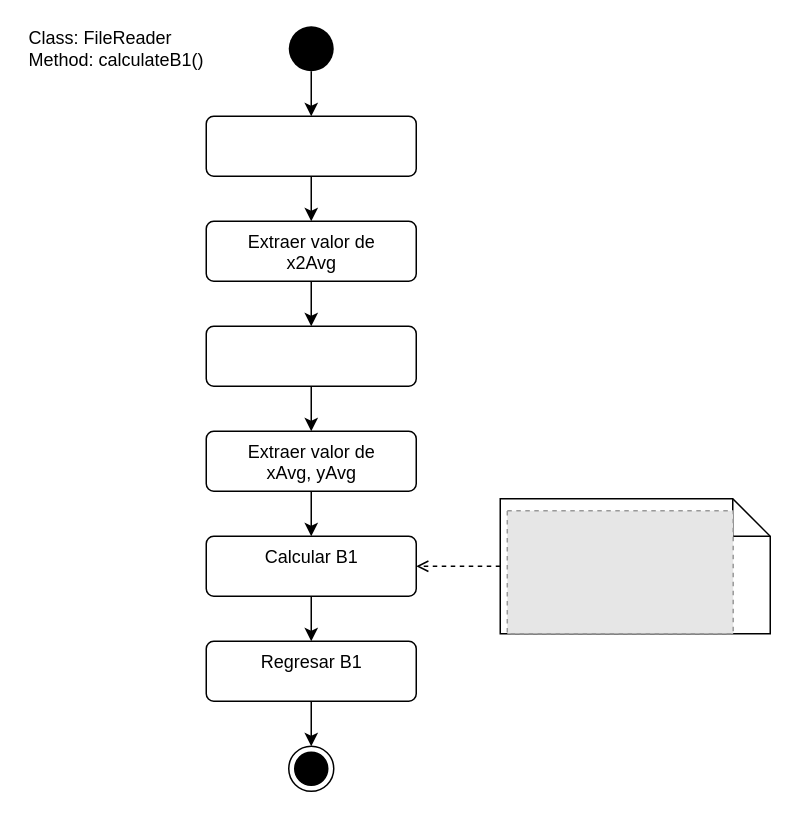
Some shapes in this 797 by 818 pixel diagram are drawn without their labels. Grey dashed boxes stand in for pictures. The box of each missing label's shape, as (x1, y1, x2, y2) in pixels:
Extraer valor de x2Sum: (205, 115, 416, 176)
Extraer valor de xySum: (205, 325, 416, 386)
